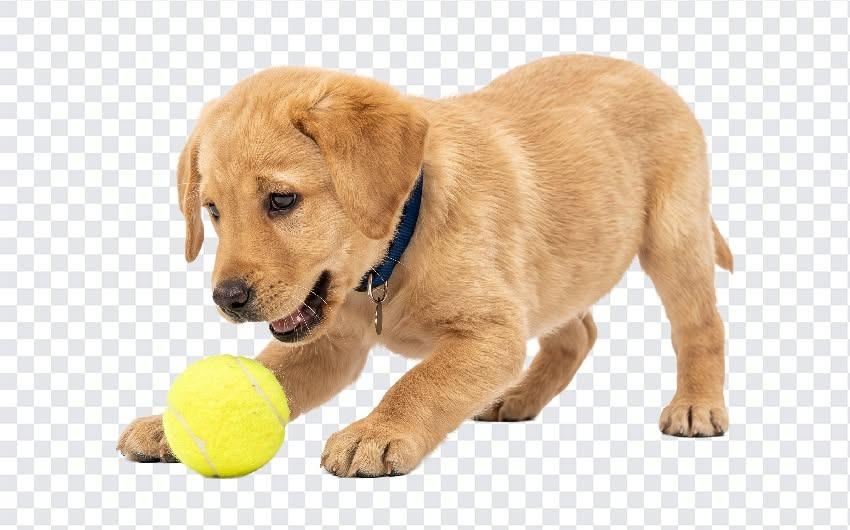puppy-dog: (116, 52, 735, 480)
